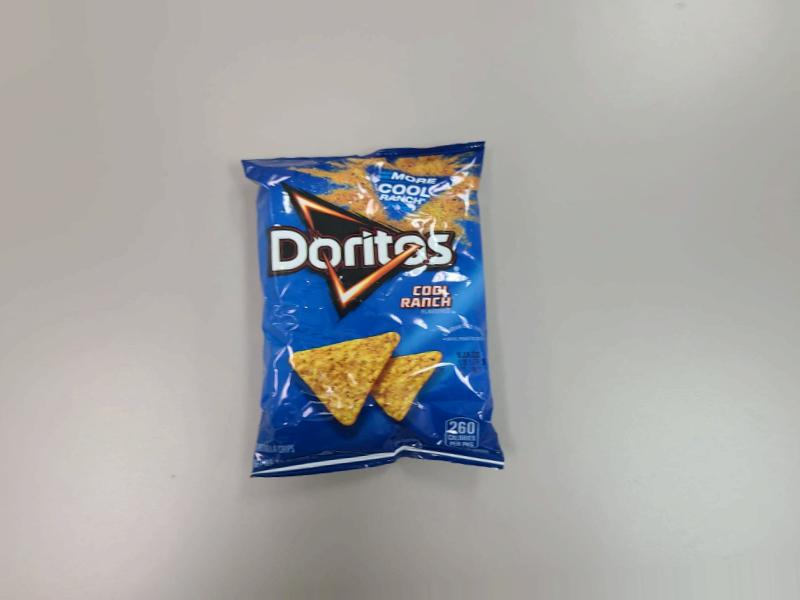doritos: (260, 126, 500, 507)
